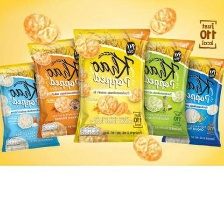snack: (69, 24, 154, 146), (127, 33, 198, 140), (24, 34, 86, 141), (158, 52, 224, 150), (0, 57, 64, 155)
